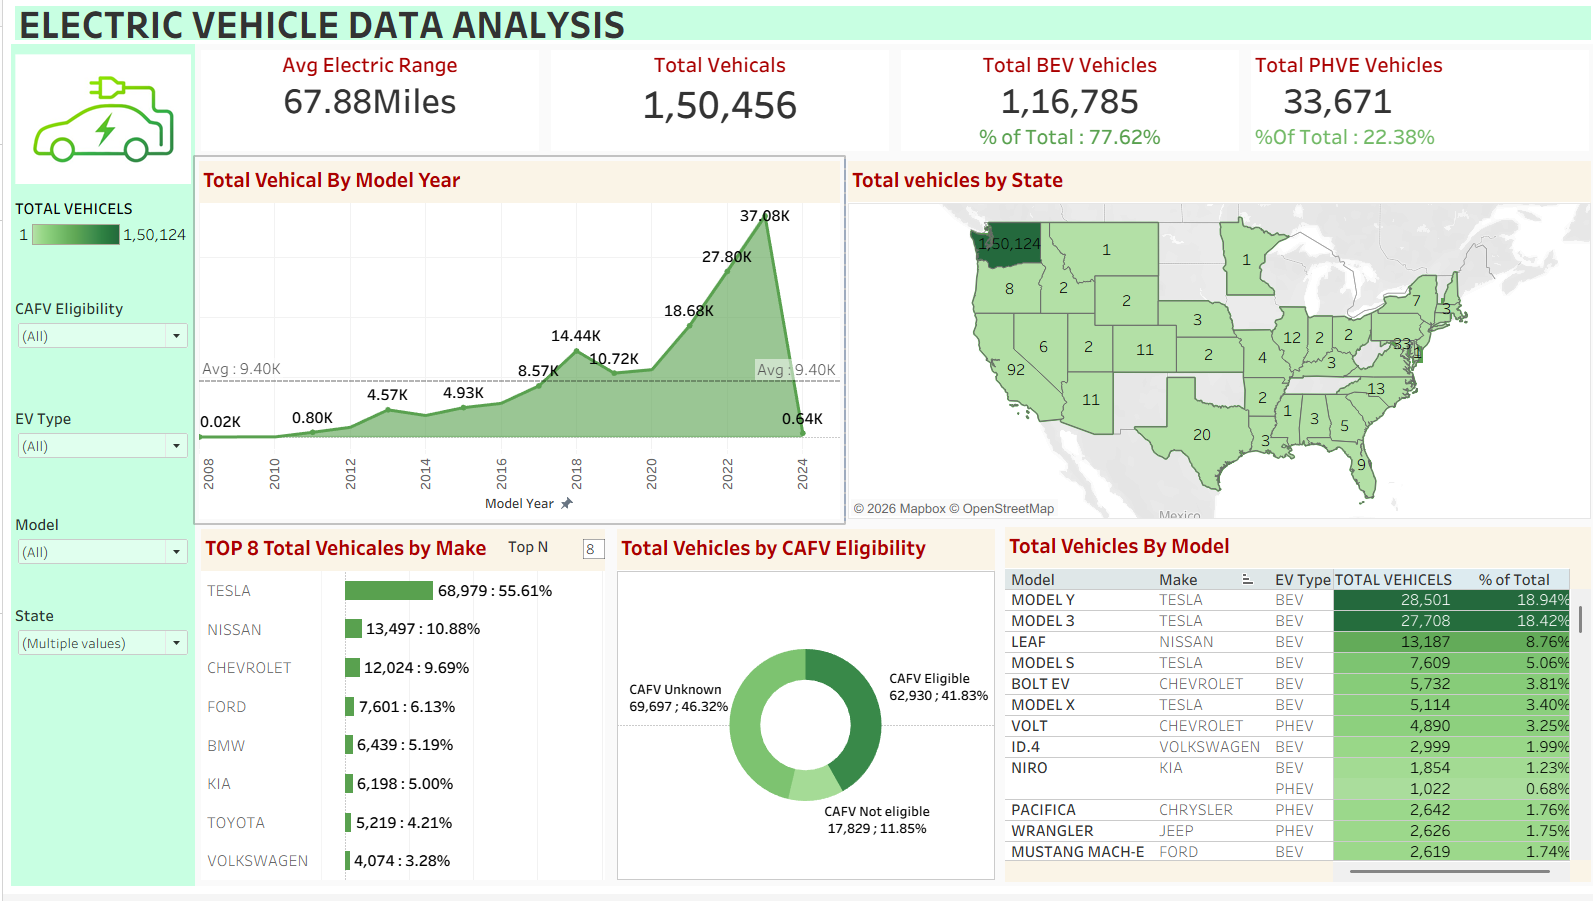

This screenshot's page, from the dashboard's own definition file:
{"tool":"tableau","page":{"name":"Dashboard 1","canvas":[1600,900],"ordinal":0},"visuals":[{"type":"title","box":[8,8,1584,42]},{"type":"image","param":"C:/Users/HP/Desktop/pp/tableau project/CAR.jpg","box":[8,50,184,150]},{"type":"worksheet","title":"Avg Renge","mark":"Automatic","box":[192,50,350,113]},{"type":"worksheet","title":"total vehicals","mark":"Automatic","box":[542,50,350,113]},{"type":"worksheet","title":"Total BEV Vehical","mark":"Automatic","box":[892,50,350,113]},{"type":"worksheet","title":"TOTAL PHVE VEHICLES","mark":"Automatic","box":[1242,50,350,113]},{"type":"worksheet","title":"Total Vehicles by Model Year","mark":"Line","rows":["Calculation_2330187300417537","Calculation_2330187300417537"],"cols":["Model Year"],"box":[192,163.2,649,365.6]},{"type":"worksheet","title":"Total vehicles by State","mark":"Multipolygon","box":[841,163.2,751,365.6]},{"type":"legend","title":"Total vehicles by State","param":"[federated.0rz68zv144xy6b16ganb9066575t].[usr:Calculation_2330187300417537:qk]","box":[8,200,184,100]},{"type":"filter","title":"Total Vehicles by Model Year","param":"[federated.0rz68zv144xy6b16ganb9066575t].[none:Clean Alternative Fuel Vehicle (C","box":[8,300,184,110]},{"type":"filter","title":"Total Vehicles by Model Year","param":"[federated.0rz68zv144xy6b16ganb9066575t].[none:Electric Vehicle Type:nk]","box":[8,410,184,106]},{"type":"filter","title":"Total Vehicles by Model Year","param":"[federated.0rz68zv144xy6b16ganb9066575t].[none:Model:nk]","box":[8,516,184,91]},{"type":"worksheet","title":"TOP 10 TOTAL VEHICLES MAKE","mark":"Automatic","rows":["Make"],"cols":["Calculation_2330187300417537"],"box":[192,528.8,416,363.2]},{"type":"worksheet","title":"Total Vehicles by CAFV Eligibility","mark":"Pie","rows":["Calculation_0085259769217025","Calculation_0085259769544707"],"box":[608,528.8,390,363.2]},{"type":"worksheet","title":"Total Vehicles By Model","mark":"Square","rows":["Model","Make","Electric Vehicle Type"],"box":[998,528.8,594,363.2]},{"type":"parameter","param":"[Parameters].[Parameter 1]","box":[505,542,100,24]},{"type":"filter","title":"Total Vehicles by Model Year","param":"[federated.0rz68zv144xy6b16ganb9066575t].[none:State:nk]","box":[8,607,184,106]}]}

Visuals, with their boxes in screenshot pixels (x1, y1, x2, y2), scaled from the page's 1600x900 canvas onto the 1593x901 screenshot:
title: bbox(8, 8, 1585, 50)
image: bbox(8, 50, 191, 200)
"Avg Renge" worksheet: bbox(191, 50, 540, 163)
"total vehicals" worksheet: bbox(540, 50, 888, 163)
"Total BEV Vehical" worksheet: bbox(888, 50, 1237, 163)
"TOTAL PHVE VEHICLES" worksheet: bbox(1237, 50, 1585, 163)
"Total Vehicles by Model Year" worksheet (Line marks): bbox(191, 163, 837, 529)
"Total vehicles by State" worksheet (Multipolygon marks): bbox(837, 163, 1585, 529)
"Total vehicles by State" legend: bbox(8, 200, 191, 300)
"Total Vehicles by Model Year" filter: bbox(8, 300, 191, 410)
"Total Vehicles by Model Year" filter: bbox(8, 410, 191, 517)
"Total Vehicles by Model Year" filter: bbox(8, 517, 191, 608)
"TOP 10 TOTAL VEHICLES MAKE" worksheet: bbox(191, 529, 605, 893)
"Total Vehicles by CAFV Eligibility" worksheet (Pie marks): bbox(605, 529, 994, 893)
"Total Vehicles By Model" worksheet (Square marks): bbox(994, 529, 1585, 893)
parameter: bbox(503, 543, 602, 567)
"Total Vehicles by Model Year" filter: bbox(8, 608, 191, 714)
